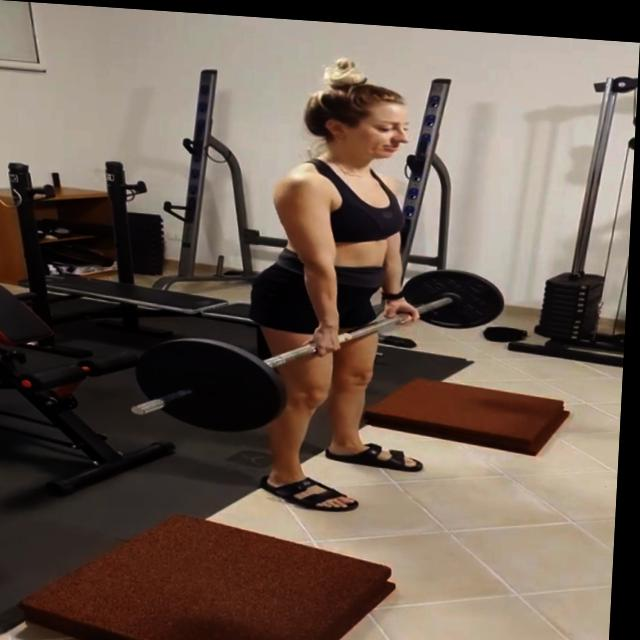barbell: (124, 330, 298, 436)
